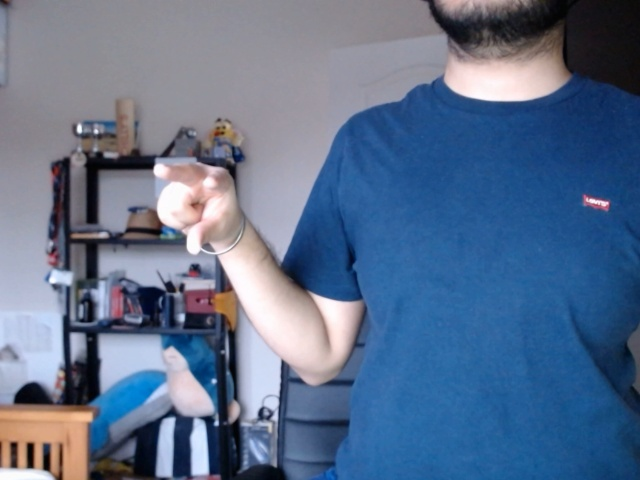No: (144, 157, 243, 269)
